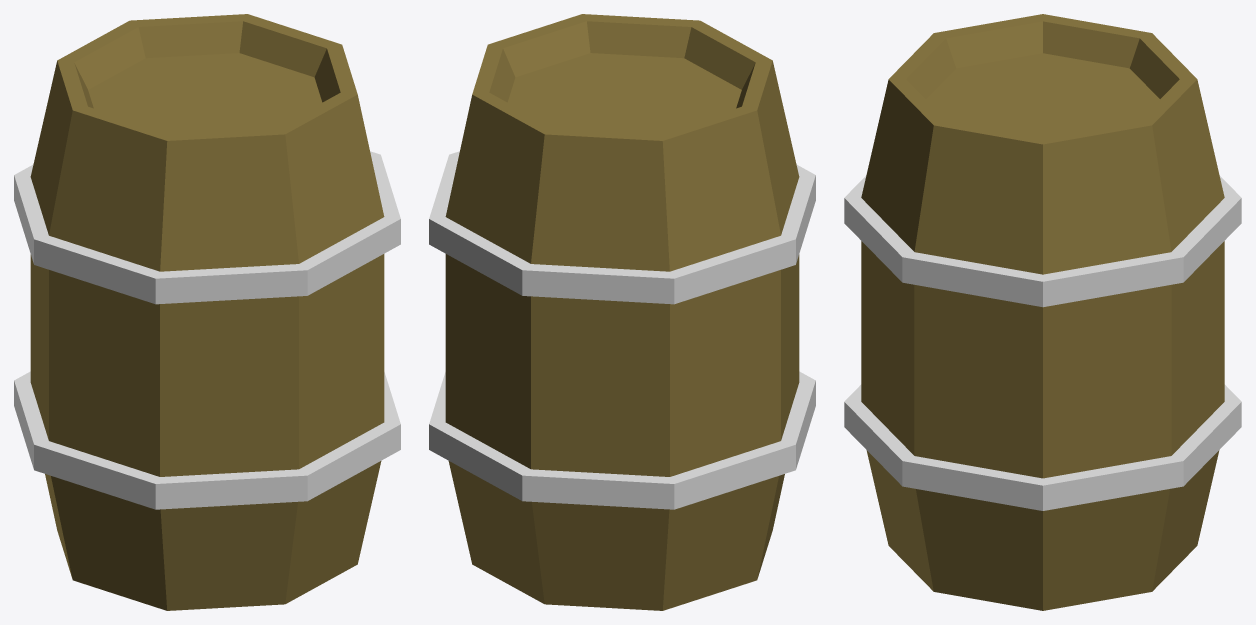
Rendered from SM_Barrel.fbx.
The picture shows the model from 3 angles, left to right: view 1: azimuth 30°, elevation 25°; view 2: azimuth 150°, elevation 25°; view 3: azimuth 270°, elevation 25°; orthographic projection.
Parts seen in each view (by area): view 1: SM_Barrel; view 2: SM_Barrel; view 3: SM_Barrel.
Part boxes in pixels (x1,y1,x2,y2): SM_Barrel: (14,14,400,610); SM_Barrel: (429,14,815,610); SM_Barrel: (844,14,1241,610).
Size of the model in its own units: 77.22 by 100 by 77.22.
